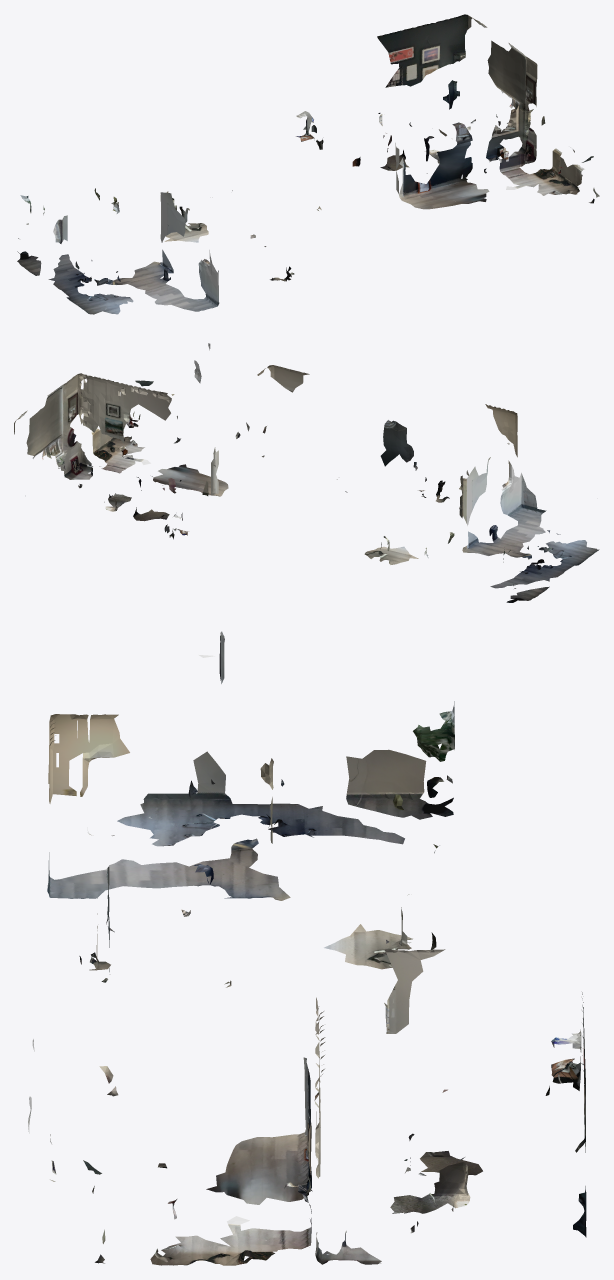
The picture shows the model from 3 angles, top to bottom: view 1: azimuth 30°, elevation 25°; view 2: azimuth 150°, elevation 25°; view 3: azimuth 270°, elevation 25°; orthographic projection. The views are drawn at different scales.
Visible parts, largest first — view 1: Mesh_2; view 2: Mesh_2; view 3: Mesh_2.
Boxes of the visible parts, x1,y1,x2,y2 form: Mesh_2: (17,14,599,314); Mesh_2: (14,343,599,602); Mesh_2: (28,631,586,1265).
Size of the model in its own units: 14.96 by 2.77 by 7.23.
1 material, 1 textured.
